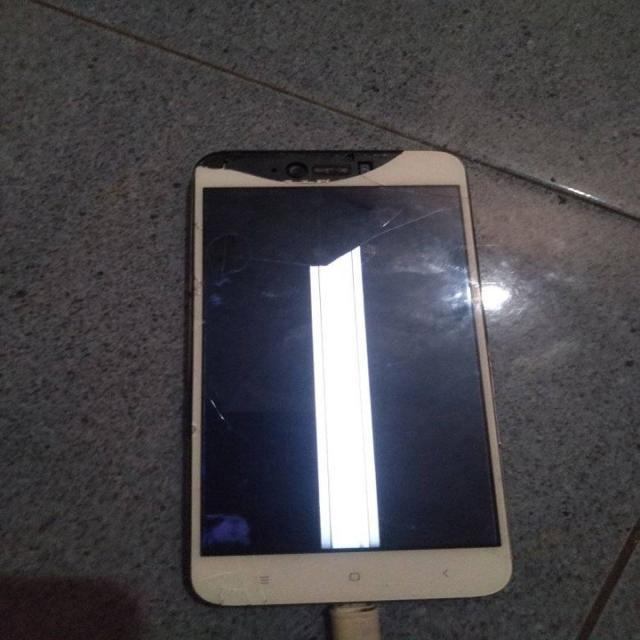phone: (196, 155, 503, 598)
